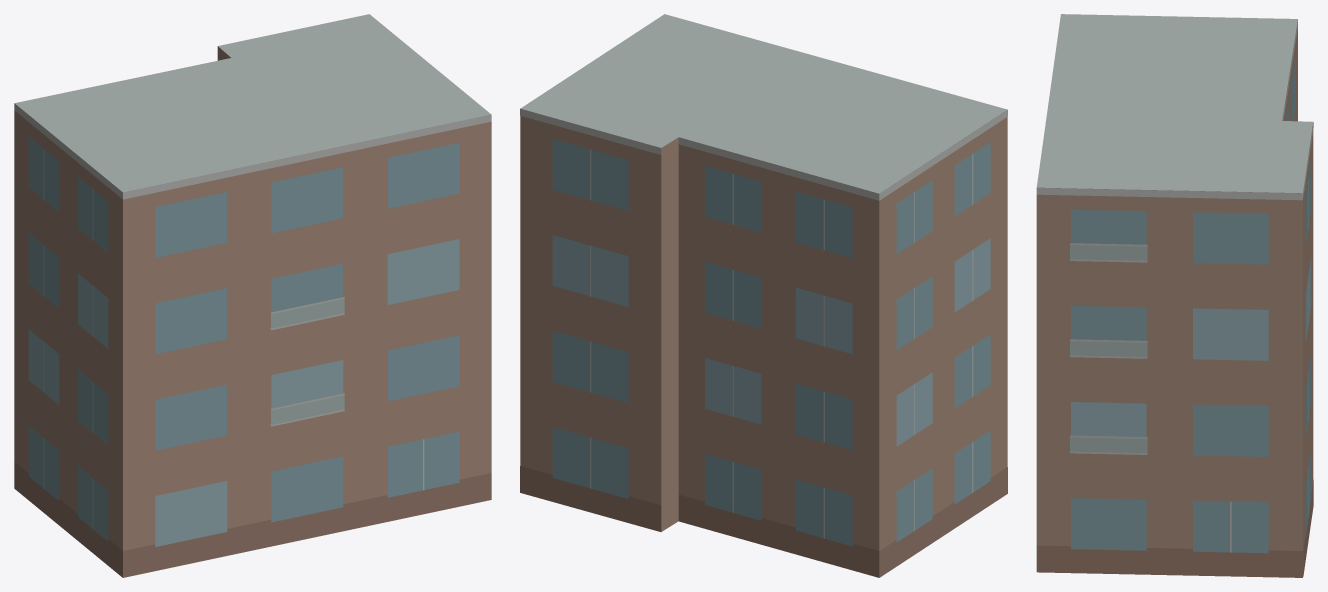
File: survey-upis-32695227.glb
3 views of the same model, side by side, from view 1: azimuth 30°, elevation 25°; view 2: azimuth 150°, elevation 25°; view 3: azimuth 270°, elevation 25° (orthographic).
Visible parts, largest first — view 1: survey-upis-32695227.tmp; view 2: survey-upis-32695227.tmp; view 3: survey-upis-32695227.tmp.
Boxes of the visible parts, bbox=[...] form: survey-upis-32695227.tmp: bbox=[14, 14, 491, 577]; survey-upis-32695227.tmp: bbox=[520, 14, 1007, 577]; survey-upis-32695227.tmp: bbox=[1036, 14, 1313, 577].
Size of the model in its own units: 13.24 by 13.25 by 8.65.
